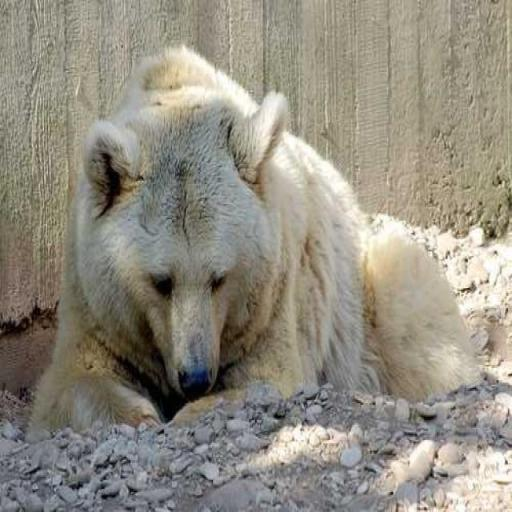Bear: (24, 42, 484, 442)
